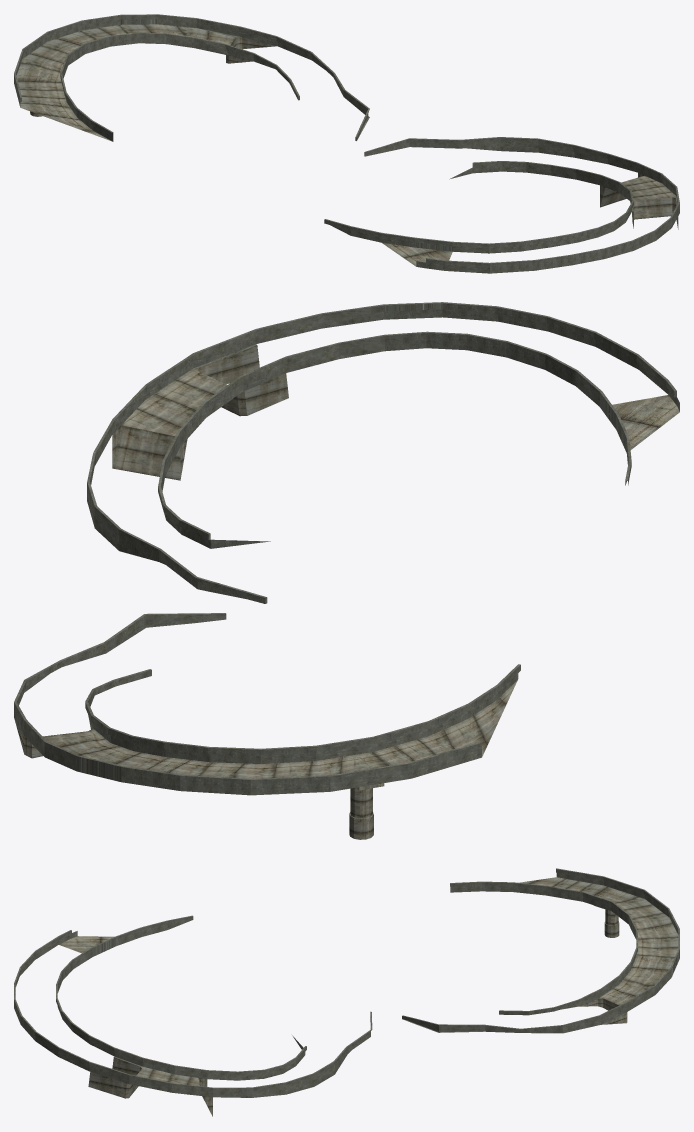
The model's file is cunte_roads27w.obj.
The picture shows the model from 3 angles, top to bottom: view 1: azimuth 30°, elevation 25°; view 2: azimuth 150°, elevation 25°; view 3: azimuth 270°, elevation 25°; orthographic projection. The views are drawn at different scales.
Visible parts, largest first — view 1: cunte_roads27W; view 2: cunte_roads27W; view 3: cunte_roads27W.
Boxes of the visible parts, x1,y1,x2,y2 form: cunte_roads27W: [14, 14, 679, 273]; cunte_roads27W: [14, 302, 679, 839]; cunte_roads27W: [14, 868, 679, 1116].
Size of the model in its own units: 112 by 16.24 by 165.
Materials: 2 (2 with a texture image).
